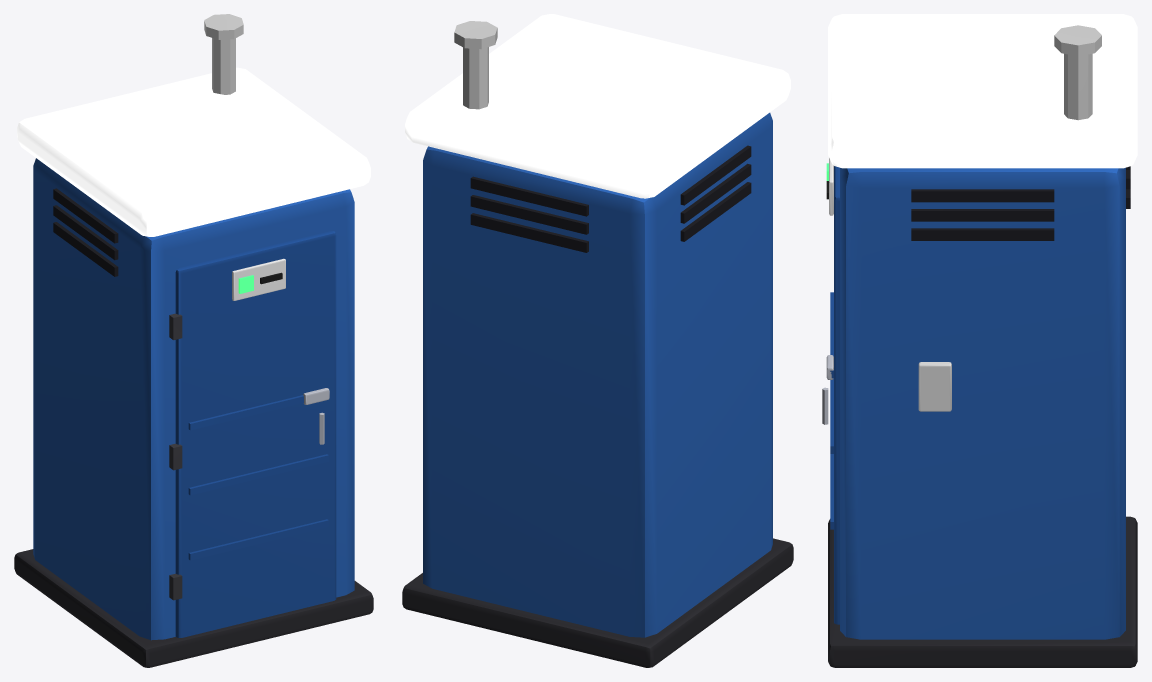
The model's file is potty.glb.
3 renders of one model, left to right at view 1: azimuth 30°, elevation 25°; view 2: azimuth 150°, elevation 25°; view 3: azimuth 270°, elevation 25°, orthographic. The views are drawn at different scales.
Parts seen in each view (by area): view 1: body.001, door, roof, roof_dome, base, stack, sign_plate, rib_1, rib_0, rib_2, stack_cap, vent_1_0 (+2 smaller); view 2: body.001, roof, roof_dome, base, stack, vent_back_2, vent_back_1, vent_back_0, stack_cap, vent_0_0, vent_1_0, vent_2_0; view 3: body.001, roof, roof_dome, base, door, vent_2_1, vent_0_1, vent_1_1, stack, sani, stack_cap.
Boxes of the visible parts, <box> form: body.001: <box>33,158,354,640</box>; door: <box>175,231,336,637</box>; roof: <box>17,67,370,236</box>; roof_dome: <box>93,91,294,180</box>; base: <box>14,549,373,667</box>; stack: <box>212,38,235,94</box>; sign_plate: <box>232,258,285,300</box>; rib_1: <box>188,454,328,495</box>; rib_0: <box>188,519,328,560</box>; rib_2: <box>188,395,303,430</box>; stack_cap: <box>204,14,243,39</box>; vent_1_0: <box>53,205,118,260</box>; body.001: <box>423,112,772,637</box>; roof: <box>405,14,790,198</box>; roof_dome: <box>489,39,706,136</box>; base: <box>402,538,793,667</box>; stack: <box>463,47,488,109</box>; vent_back_2: <box>470,176,588,216</box>; vent_back_1: <box>470,195,588,234</box>; vent_back_0: <box>470,213,588,252</box>; stack_cap: <box>454,21,497,49</box>; vent_0_0: <box>680,182,751,241</box>; vent_1_0: <box>680,163,751,223</box>; vent_2_0: <box>680,145,751,205</box>; body.001: <box>840,167,1125,639</box>; roof: <box>828,14,1137,168</box>; roof_dome: <box>864,21,1101,121</box>; base: <box>828,516,1137,667</box>; door: <box>834,166,839,624</box>; vent_2_1: <box>911,189,1054,202</box>; vent_0_1: <box>911,228,1054,240</box>; vent_1_1: <box>911,209,1054,221</box>; stack: <box>1064,53,1092,120</box>; sani: <box>918,362,951,411</box>; stack_cap: <box>1054,25,1101,56</box>.
Bounding box in the file's own units: 1.3 × 2.83 × 1.32.
